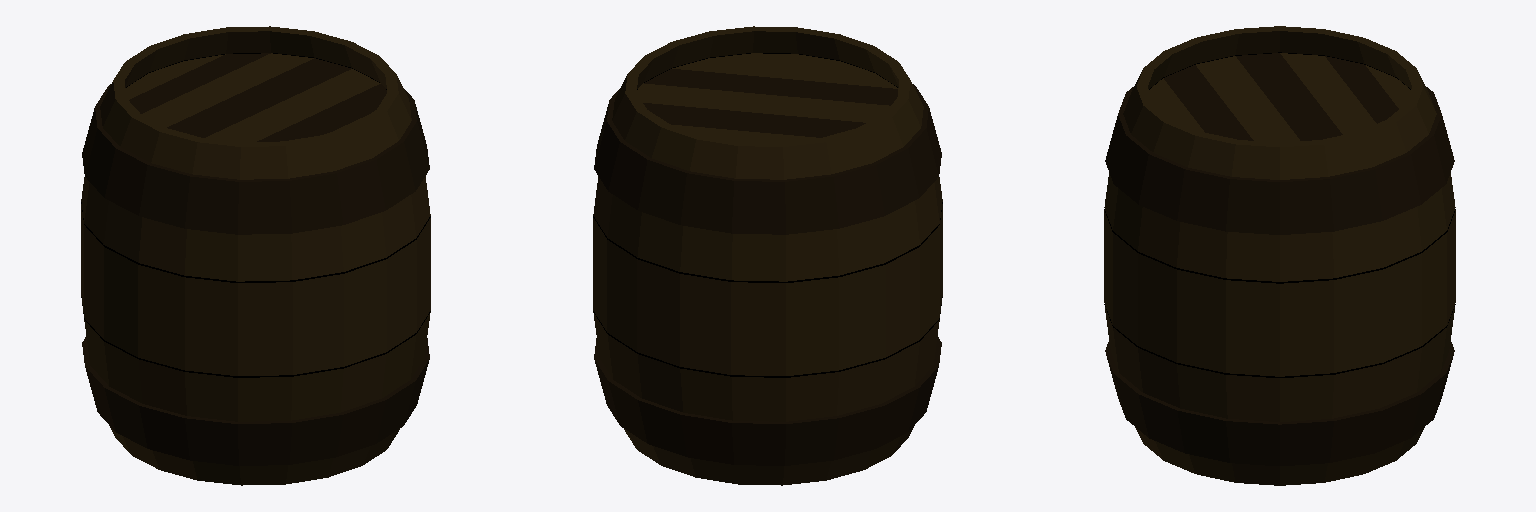
The model's file is Texture_Ready_Barrel.obj.
3 renders of one model, left to right at view 1: azimuth 30°, elevation 25°; view 2: azimuth 150°, elevation 25°; view 3: azimuth 270°, elevation 25°, orthographic.
Visible parts, largest first — view 1: Barrel8; view 2: Barrel8; view 3: Barrel8.
Part boxes in pixels (x1,y1,x2,y2): Barrel8: (81,26,430,485); Barrel8: (593,26,942,485); Barrel8: (1104,26,1455,485).
Size of the model in its own units: 117 by 124 by 117.